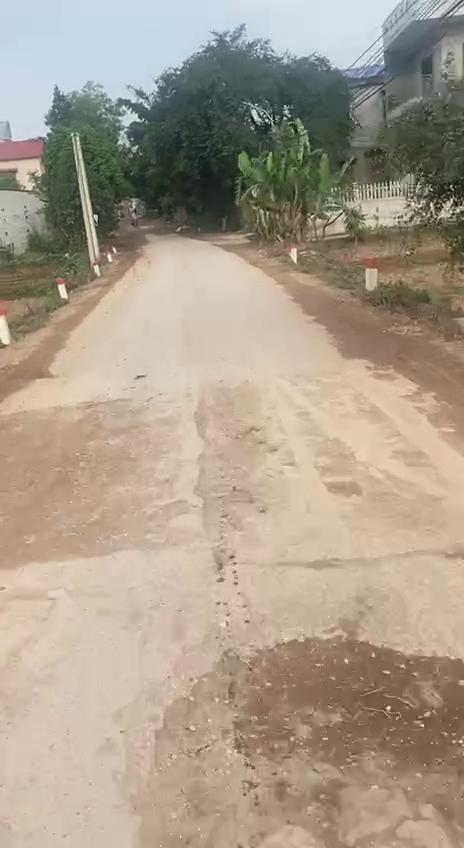pothole: (120, 625, 464, 848)
